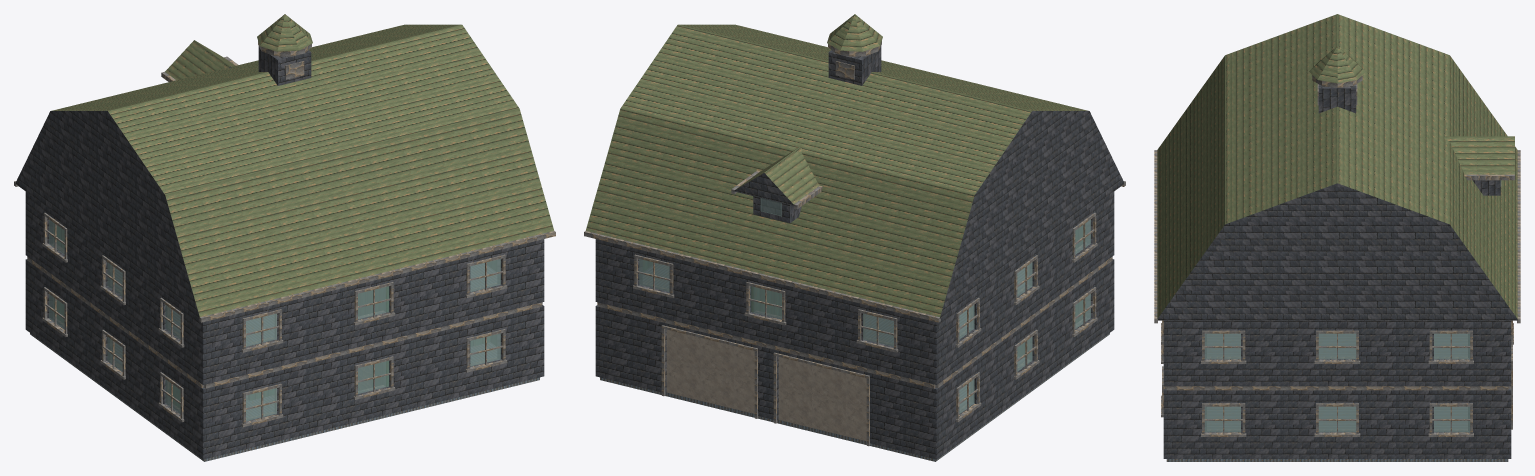
Rendered from carriage-court.gltf.
3 renders of one model, left to right at view 1: azimuth 30°, elevation 25°; view 2: azimuth 150°, elevation 25°; view 3: azimuth 270°, elevation 25°, orthographic. The views are drawn at different scales.
Visible parts, largest first — view 1: roof-L1-slate, exterior-L0-sage-siding, exterior-L1-sage-siding, roof-L1-sage-siding, trim-L0-dark-wood, trim-L1-dark-wood, glazing-L1-glass, glazing-L0-glass, roof-L1-dark-wood, exterior-L0-dark-wood, floor-L0-concrete, floor-L1-concrete (+2 smaller); view 2: roof-L1-slate, exterior-L1-sage-siding, exterior-L0-sage-siding, roof-L1-sage-siding, door-leaf-L0-blue-metal (×2), trim-L1-dark-wood, trim-L0-dark-wood, glazing-L1-glass, roof-L1-dark-wood, exterior-L0-dark-wood, floor-L0-concrete, floor-L1-concrete (+3 smaller); view 3: roof-L1-slate, roof-L1-sage-siding, exterior-L0-sage-siding, exterior-L1-sage-siding, floor-L0-concrete, glazing-L1-glass, glazing-L0-glass, trim-L0-dark-wood, trim-L1-dark-wood, roof-L1-dark-wood, floor-L1-concrete, exterior-L0-dark-wood.
Part boxes in pixels (x1,y1,x2,y2): roof-L1-slate: [51, 14, 554, 316]; exterior-L0-sage-siding: [25, 259, 544, 459]; exterior-L1-sage-siding: [25, 192, 544, 384]; roof-L1-sage-siding: [15, 46, 311, 318]; trim-L0-dark-wood: [42, 287, 506, 427]; trim-L1-dark-wood: [42, 212, 506, 352]; glazing-L1-glass: [49, 219, 500, 346]; glazing-L0-glass: [49, 294, 500, 421]; roof-L1-dark-wood: [14, 41, 555, 322]; exterior-L0-dark-wood: [27, 256, 542, 388]; floor-L0-concrete: [30, 333, 539, 461]; floor-L1-concrete: [115, 263, 496, 343]; roof-L1-slate: [585, 14, 1088, 316]; exterior-L1-sage-siding: [595, 192, 1114, 384]; exterior-L0-sage-siding: [595, 259, 1114, 459]; roof-L1-sage-siding: [733, 46, 1123, 318]; door-leaf-L0-blue-metal (×2): [666, 329, 866, 441]; trim-L1-dark-wood: [633, 212, 1097, 352]; trim-L0-dark-wood: [661, 287, 1097, 446]; glazing-L1-glass: [639, 219, 1090, 346]; roof-L1-dark-wood: [584, 41, 1125, 322]; exterior-L0-dark-wood: [597, 256, 1112, 388]; floor-L0-concrete: [600, 333, 1109, 461]; floor-L1-concrete: [643, 263, 1024, 343]; roof-L1-slate: [1157, 14, 1517, 318]; roof-L1-sage-siding: [1157, 84, 1517, 320]; exterior-L0-sage-siding: [1163, 389, 1511, 458]; exterior-L1-sage-siding: [1163, 320, 1511, 386]; floor-L0-concrete: [1166, 407, 1508, 461]; glazing-L1-glass: [1204, 333, 1470, 359]; glazing-L0-glass: [1204, 406, 1470, 432]; trim-L0-dark-wood: [1161, 344, 1512, 436]; trim-L1-dark-wood: [1161, 320, 1513, 363]; roof-L1-dark-wood: [1154, 75, 1520, 323]; floor-L1-concrete: [1207, 334, 1467, 355]; exterior-L0-dark-wood: [1163, 386, 1511, 390].
Size of the model in its own units: 10.56 by 9.77 by 9.66.
9 materials, 8 textured.
